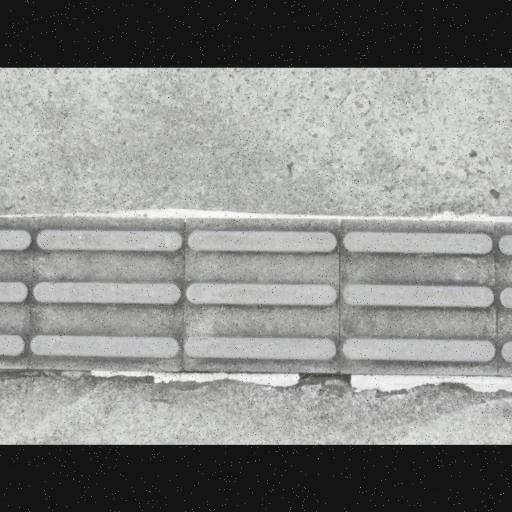line: (185, 216, 346, 380), (341, 222, 500, 384), (32, 220, 189, 378), (0, 218, 36, 369), (494, 220, 511, 380)
